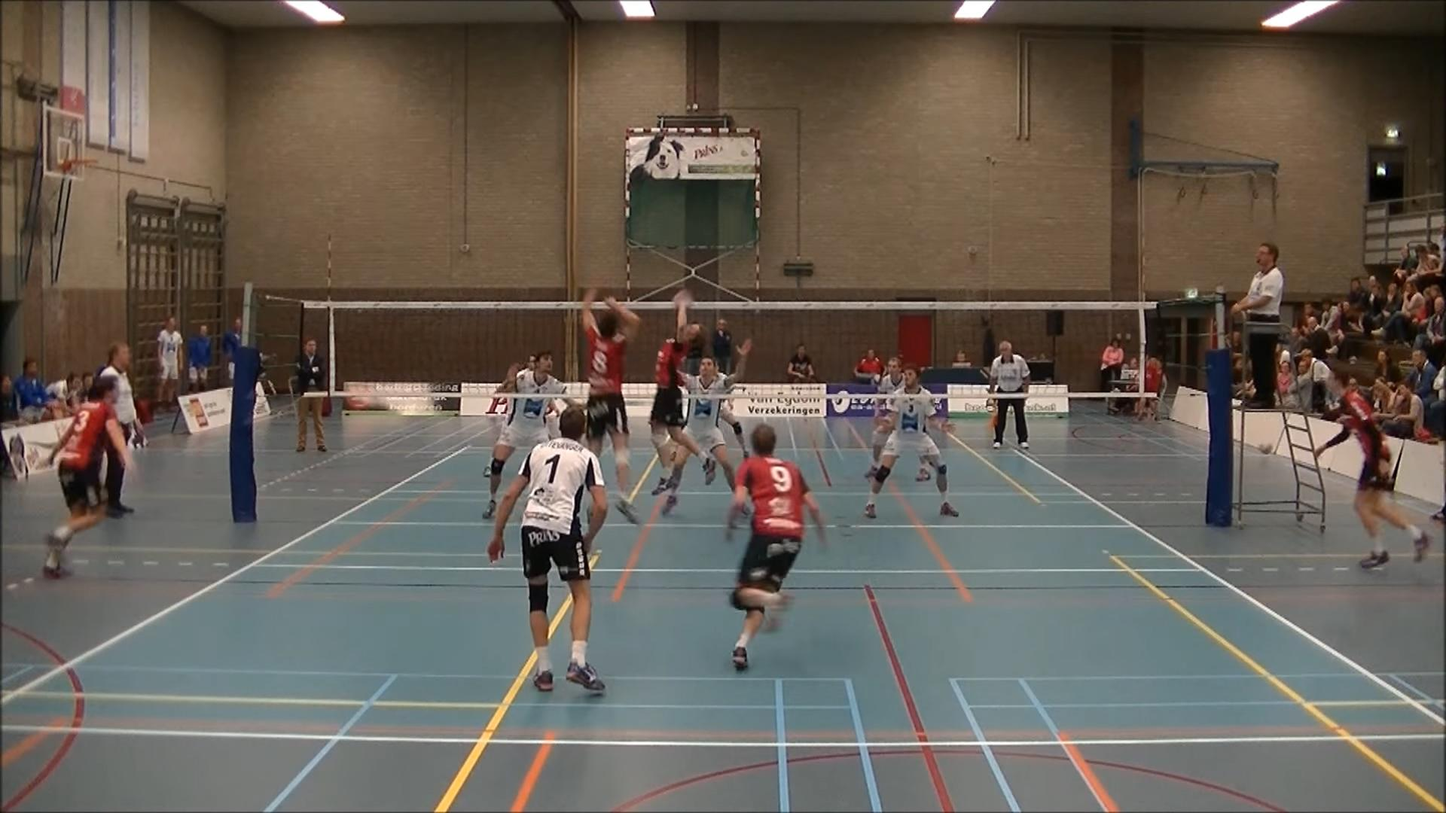alzata: (651, 286, 722, 501)
